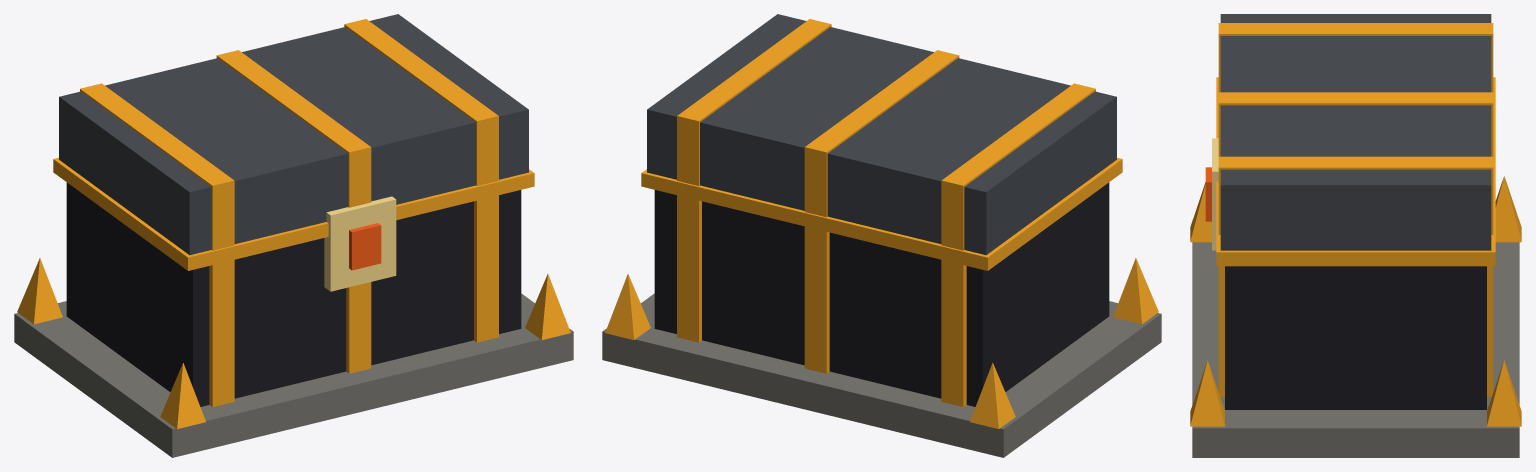
The model's file is delve_cache.glb.
3 views of the same model, side by side, from view 1: azimuth 30°, elevation 25°; view 2: azimuth 150°, elevation 25°; view 3: azimuth 270°, elevation 25° (orthographic). The views are drawn at different scales.
Visible parts, largest first — view 1: delve_cache; view 2: delve_cache; view 3: delve_cache.
Part boxes in pixels (<box>): delve_cache: <box>14,14,573,457</box>; delve_cache: <box>602,14,1161,457</box>; delve_cache: <box>1190,14,1521,457</box>.
Size of the model in its own units: 2.2 by 1.31 by 1.52.
Materials: 1 (1 with a texture image).
